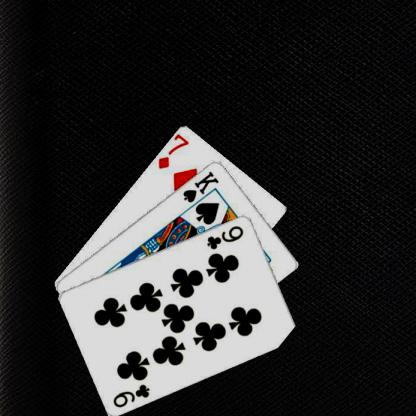7D: (155, 132, 190, 170)
9C: (110, 381, 151, 408), (204, 223, 244, 250)
KS: (180, 168, 220, 204)
